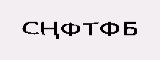Б: (120, 19, 140, 36)
С: (19, 17, 39, 37)
Т: (81, 20, 98, 36)
Ф: (101, 19, 120, 39), (60, 21, 81, 37)
Ң: (39, 18, 62, 41)
